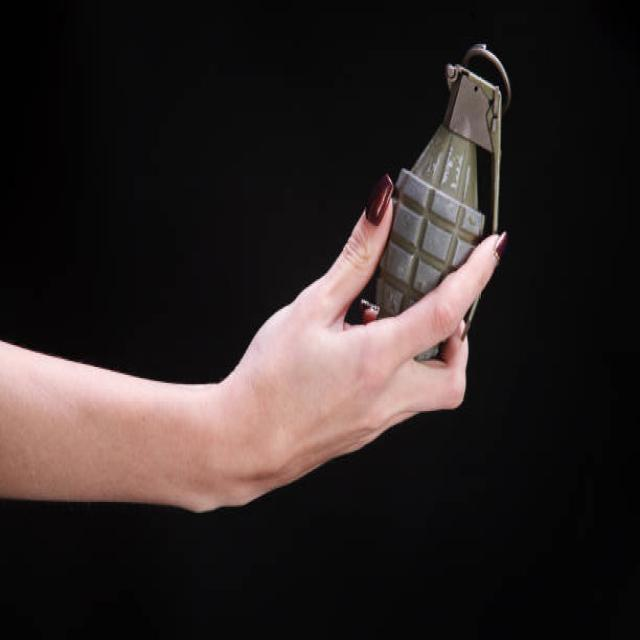grenade: (375, 42, 514, 353)
